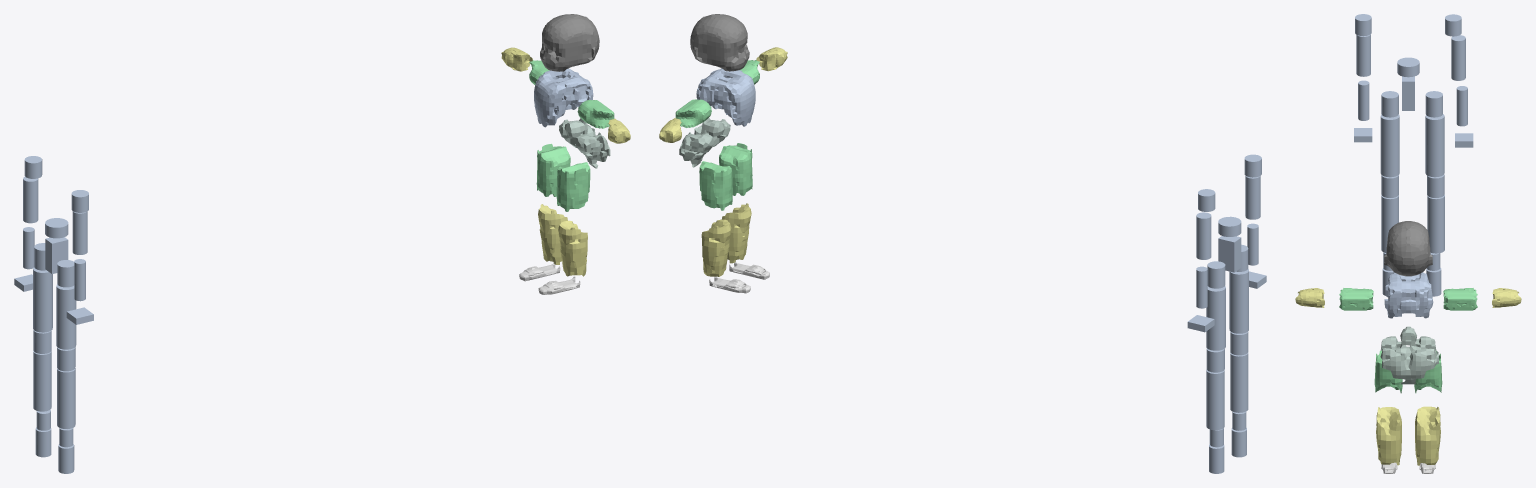
Rendered from iCub_collision_meshes.dae.
3 renders of one model, left to right at view 1: azimuth 30°, elevation 25°; view 2: azimuth 150°, elevation 25°; view 3: azimuth 270°, elevation 25°, orthographic. The views are drawn at different scales.
Visible parts, largest first — view 1: head_mesh_collision, torso_mesh_collision, l_upperleg_mesh_collision, pelvis_mesh_collision, l_lowerleg_mesh_collision, r_upperleg_mesh_collision, r_thigh_cyl1_mesh_collision, l_thigh_cyl1_mesh_collision, r_lowerleg_mesh_collision, r_shank_cyl_mesh_collision, l_shank_cyl_mesh_collision, l_upperarm_mesh_collision (+3 smaller); view 2: head_mesh_collision, torso_mesh_collision, r_upperleg_mesh_collision, r_lowerleg_mesh_collision, pelvis_mesh_collision, l_upperleg_mesh_collision, l_thigh_cyl1_mesh_collision, r_thigh_cyl1_mesh_collision, r_shank_cyl_mesh_collision, l_lowerleg_mesh_collision, l_shank_cyl_mesh_collision, waist_mesh_collision (+3 smaller); view 3: pelvis_mesh_collision, head_mesh_collision, torso_mesh_collision, r_lowerleg_mesh_collision, l_lowerleg_mesh_collision, l_thigh_cyl1_mesh_collision, r_thigh_cyl1_mesh_collision, r_shank_cyl_mesh_collision, l_upperarm_mesh_collision, r_upperarm_mesh_collision, l_shank_cyl_mesh_collision, r_arm_cyl_mesh_collision (+18 smaller).
Part boxes in pixels (left/top/right/bottom): head_mesh_collision: left=540, top=14, right=599, bottom=71; torso_mesh_collision: left=534, top=68, right=593, bottom=127; l_upperleg_mesh_collision: left=556, top=162, right=590, bottom=211; pelvis_mesh_collision: left=559, top=118, right=610, bottom=168; l_lowerleg_mesh_collision: left=558, top=220, right=587, bottom=276; r_upperleg_mesh_collision: left=536, top=143, right=570, bottom=196; r_thigh_cyl1_mesh_collision: left=33, top=267, right=52, bottom=332; l_thigh_cyl1_mesh_collision: left=56, top=284, right=76, bottom=349; r_lowerleg_mesh_collision: left=538, top=204, right=567, bottom=264; r_shank_cyl_mesh_collision: left=33, top=351, right=51, bottom=411; l_shank_cyl_mesh_collision: left=57, top=368, right=75, bottom=428; l_upperarm_mesh_collision: left=577, top=100, right=614, bottom=128; head_mesh_collision: left=690, top=14, right=749, bottom=71; torso_mesh_collision: left=696, top=68, right=755, bottom=126; r_upperleg_mesh_collision: left=699, top=161, right=732, bottom=210; r_lowerleg_mesh_collision: left=701, top=219, right=731, bottom=276; pelvis_mesh_collision: left=679, top=118, right=730, bottom=167; l_upperleg_mesh_collision: left=719, top=143, right=752, bottom=195; l_thigh_cyl1_mesh_collision: left=1229, top=269, right=1248, bottom=333; r_thigh_cyl1_mesh_collision: left=1206, top=286, right=1225, bottom=350; r_shank_cyl_mesh_collision: left=1206, top=369, right=1224, bottom=430; l_lowerleg_mesh_collision: left=721, top=203, right=751, bottom=263; l_shank_cyl_mesh_collision: left=1230, top=352, right=1248, bottom=412; waist_mesh_collision: left=1218, top=236, right=1241, bottom=272; pelvis_mesh_collision: left=1380, top=326, right=1438, bottom=384; head_mesh_collision: left=1384, top=221, right=1432, bottom=276; torso_mesh_collision: left=1384, top=272, right=1433, bottom=318; r_lowerleg_mesh_collision: left=1415, top=406, right=1440, bottom=465; l_lowerleg_mesh_collision: left=1376, top=407, right=1401, bottom=465; l_thigh_cyl1_mesh_collision: left=1380, top=114, right=1399, bottom=177; r_thigh_cyl1_mesh_collision: left=1425, top=114, right=1444, bottom=177; r_shank_cyl_mesh_collision: left=1427, top=195, right=1444, bottom=253; l_upperarm_mesh_collision: left=1339, top=288, right=1373, bottom=310; r_upperarm_mesh_collision: left=1443, top=288, right=1477, bottom=310; l_shank_cyl_mesh_collision: left=1381, top=195, right=1398, bottom=252; r_arm_cyl_mesh_collision: left=1451, top=35, right=1465, bottom=80.
Size of the model in its own units: 2.18 by 0.8024 by 1.21.
